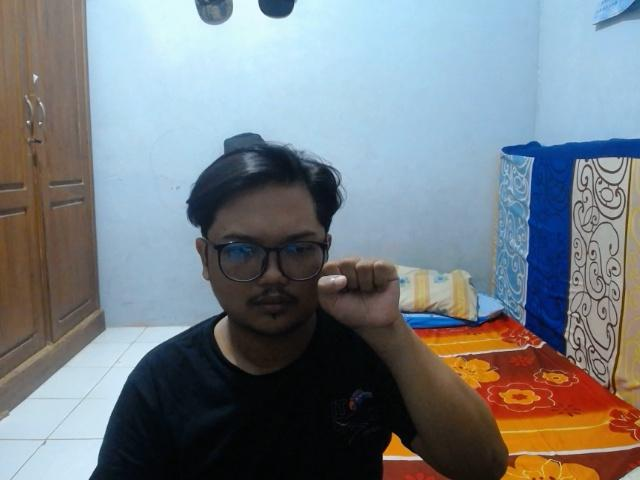Grab: (312, 253, 407, 338)
